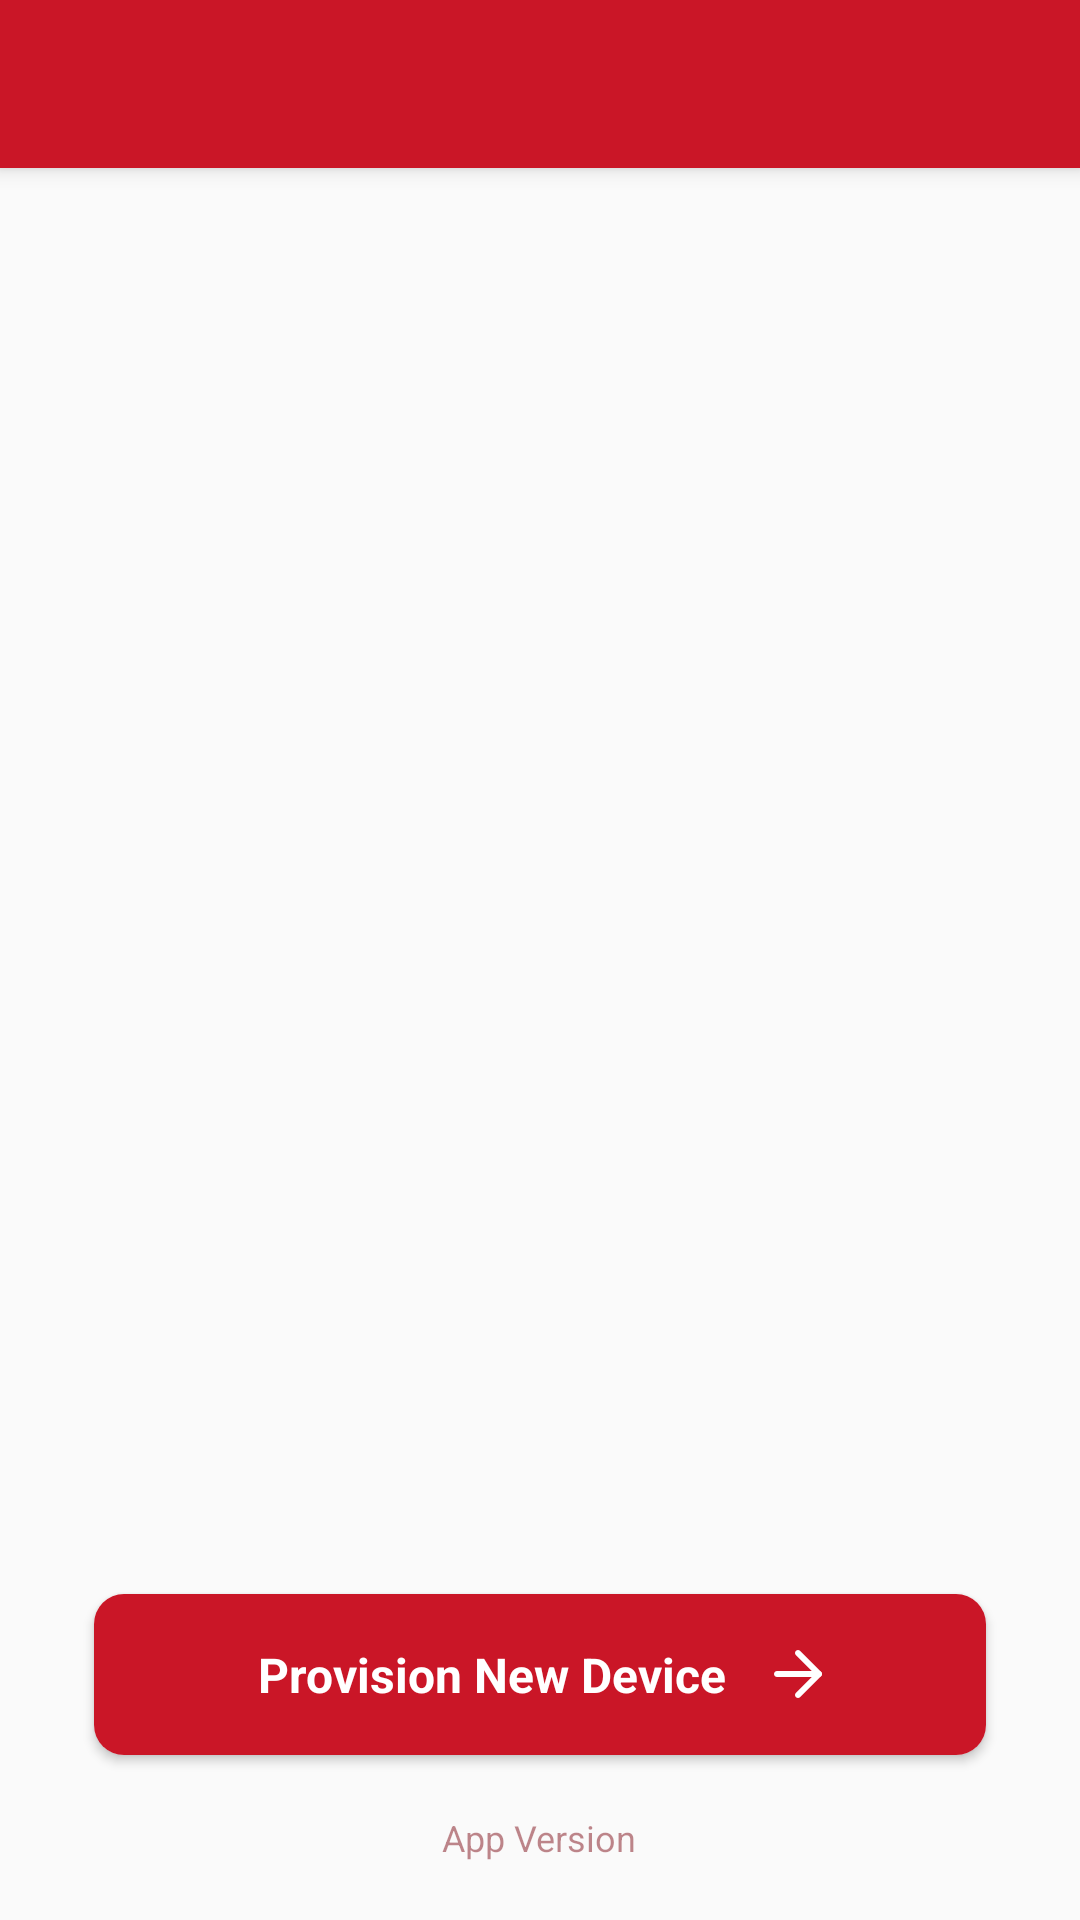

Icon click points for this 1080 x 1920 phone screenshot, format [x,y]:
right arrow: [798,1674]
